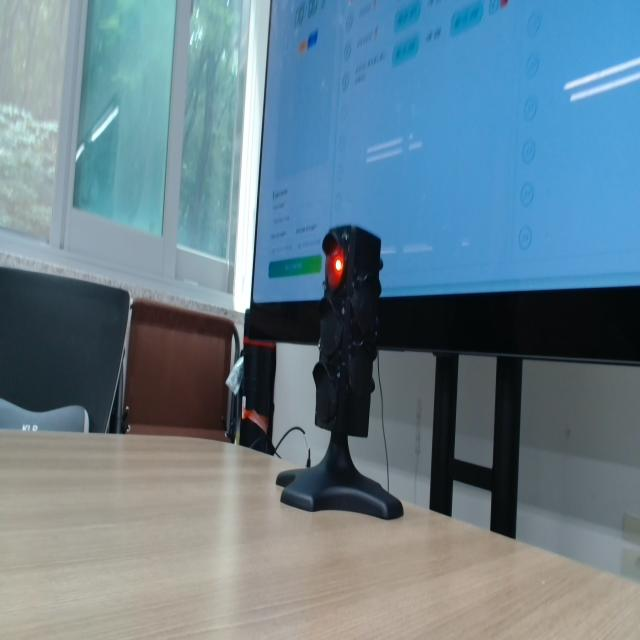red_light: (326, 246, 344, 290), (334, 257, 343, 272)
